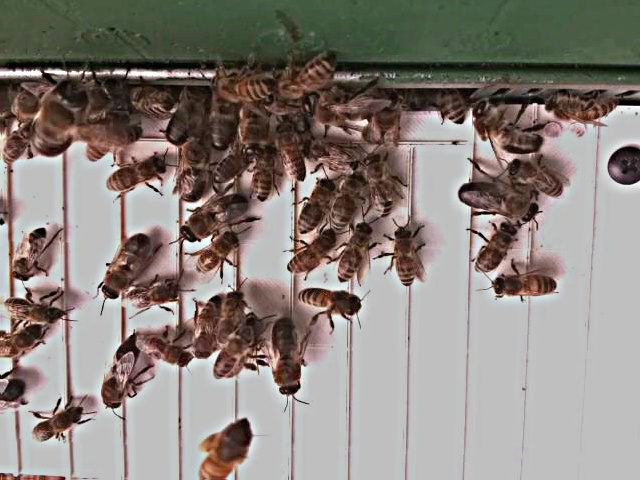Drone: (26, 79, 91, 160), (470, 101, 545, 158), (455, 179, 541, 224), (176, 195, 250, 246), (99, 234, 152, 304), (172, 129, 214, 207), (98, 337, 141, 413), (268, 318, 306, 400), (162, 85, 206, 150)
Worker: (328, 171, 368, 235), (300, 139, 364, 179), (188, 293, 224, 364), (210, 327, 254, 383), (100, 161, 170, 196), (334, 223, 374, 284), (472, 224, 518, 277), (285, 234, 336, 280), (294, 177, 330, 240), (506, 161, 565, 199), (362, 153, 395, 220), (134, 332, 192, 370), (388, 225, 420, 293), (487, 272, 558, 302), (295, 288, 361, 320), (10, 226, 46, 284), (27, 406, 81, 444), (275, 120, 306, 186), (206, 76, 278, 104), (120, 281, 182, 313), (543, 100, 619, 126), (0, 296, 64, 326), (208, 145, 251, 189), (195, 234, 240, 276), (251, 146, 274, 205)
